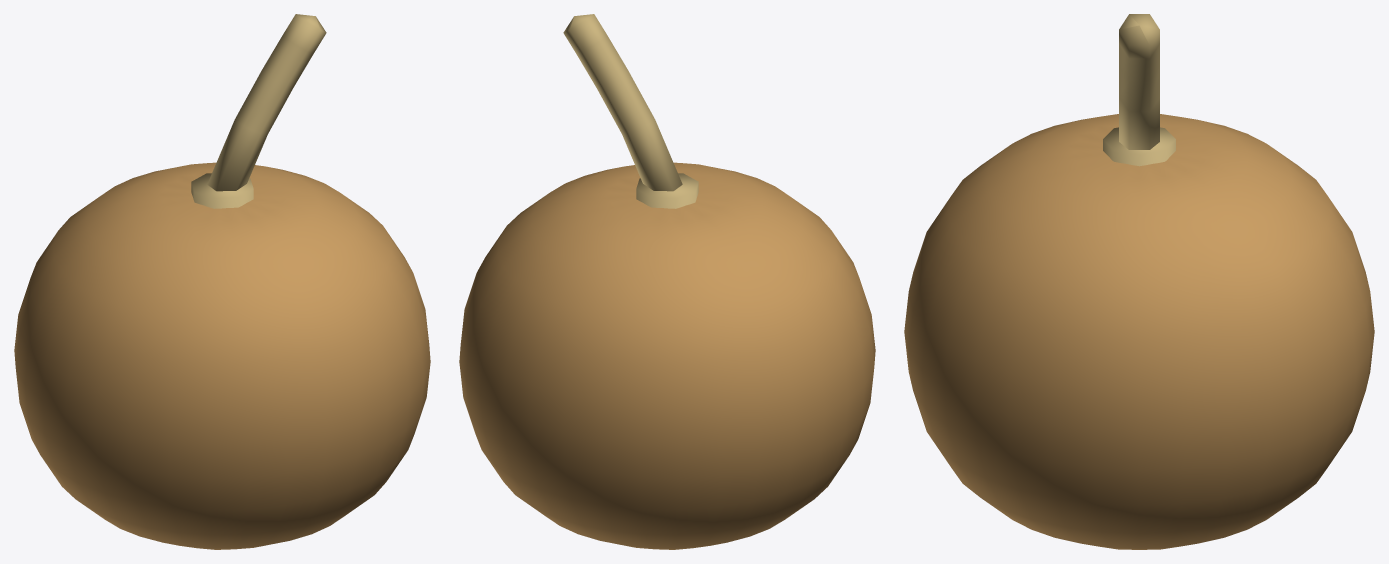
File: cork_buoy.glb
3 renders of one model, left to right at view 1: azimuth 30°, elevation 25°; view 2: azimuth 150°, elevation 25°; view 3: azimuth 270°, elevation 25°, orthographic. The views are drawn at different scales.
Visible parts, largest first — view 1: Cork_Buoy_Float, Cork_Buoy_Rope; view 2: Cork_Buoy_Float, Cork_Buoy_Rope; view 3: Cork_Buoy_Float, Cork_Buoy_Rope.
Boxes of the visible parts, x1,y1,x2,y2 form: Cork_Buoy_Float: [14, 162, 430, 549]; Cork_Buoy_Rope: [191, 14, 326, 208]; Cork_Buoy_Float: [459, 162, 875, 549]; Cork_Buoy_Rope: [563, 14, 698, 208]; Cork_Buoy_Float: [904, 114, 1374, 549]; Cork_Buoy_Rope: [1103, 14, 1175, 166].
Size of the model in its own units: 0.3874 by 0.4927 by 0.3874.
